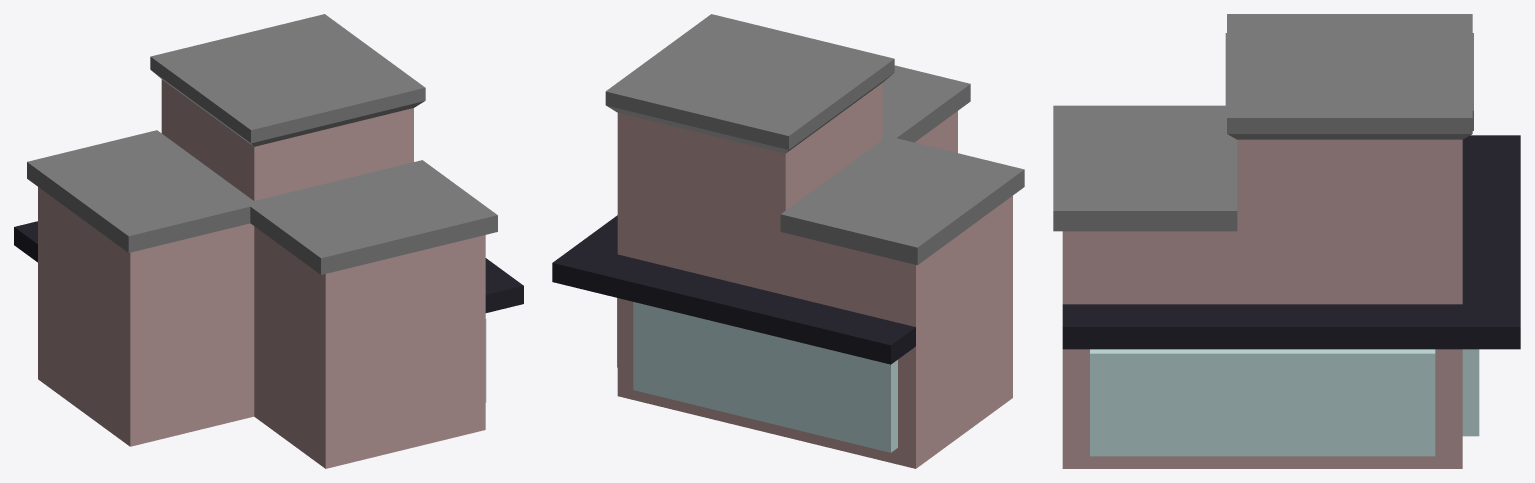
File: Lvl6.fbx
3 renders of one model, left to right at view 1: azimuth 30°, elevation 25°; view 2: azimuth 150°, elevation 25°; view 3: azimuth 270°, elevation 25°, orthographic. The views are drawn at different scales.
Parts seen in each view (by area): view 1: Lvl6; view 2: Lvl6; view 3: Lvl6.
Part boxes in pixels (x1=…): Lvl6: x1=14, y1=14, x2=523, y2=468; Lvl6: x1=552, y1=14, x2=1024, y2=468; Lvl6: x1=1053, y1=14, x2=1520, y2=468.
Bounding box in the file's own units: 310 × 262 × 313.
